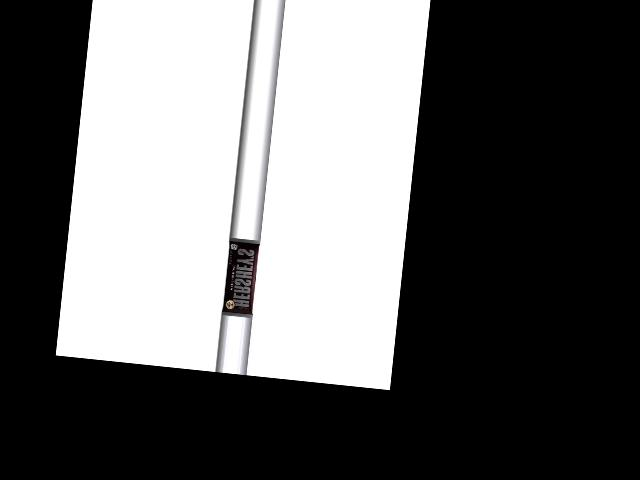chocolate: (218, 237, 259, 316)
